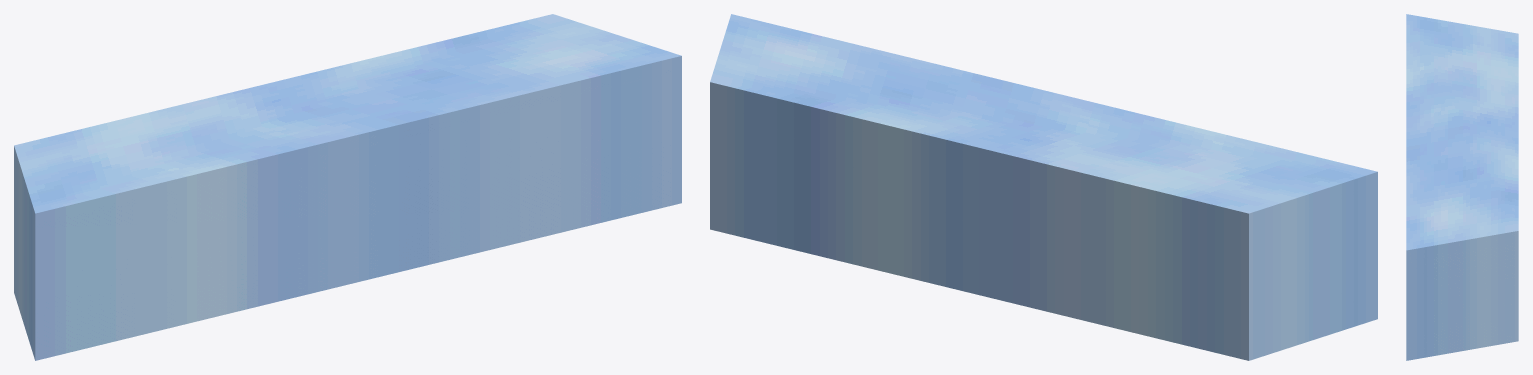
File: ewb_ice_c.glb
3 views of the same model, side by side, from view 1: azimuth 30°, elevation 25°; view 2: azimuth 150°, elevation 25°; view 3: azimuth 270°, elevation 25° (orthographic). The views are drawn at different scales.
Visible parts, largest first — view 1: ewb_ice_c; view 2: ewb_ice_c; view 3: ewb_ice_c.
Part boxes in pixels (x1=…): ewb_ice_c: x1=14, y1=14, x2=681, y2=360; ewb_ice_c: x1=710, y1=14, x2=1377, y2=360; ewb_ice_c: x1=1406, y1=14, x2=1518, y2=360.
Bounding box in the file's own units: 287 × 62.5 × 57.75.
Materials: 1 (1 with a texture image).
